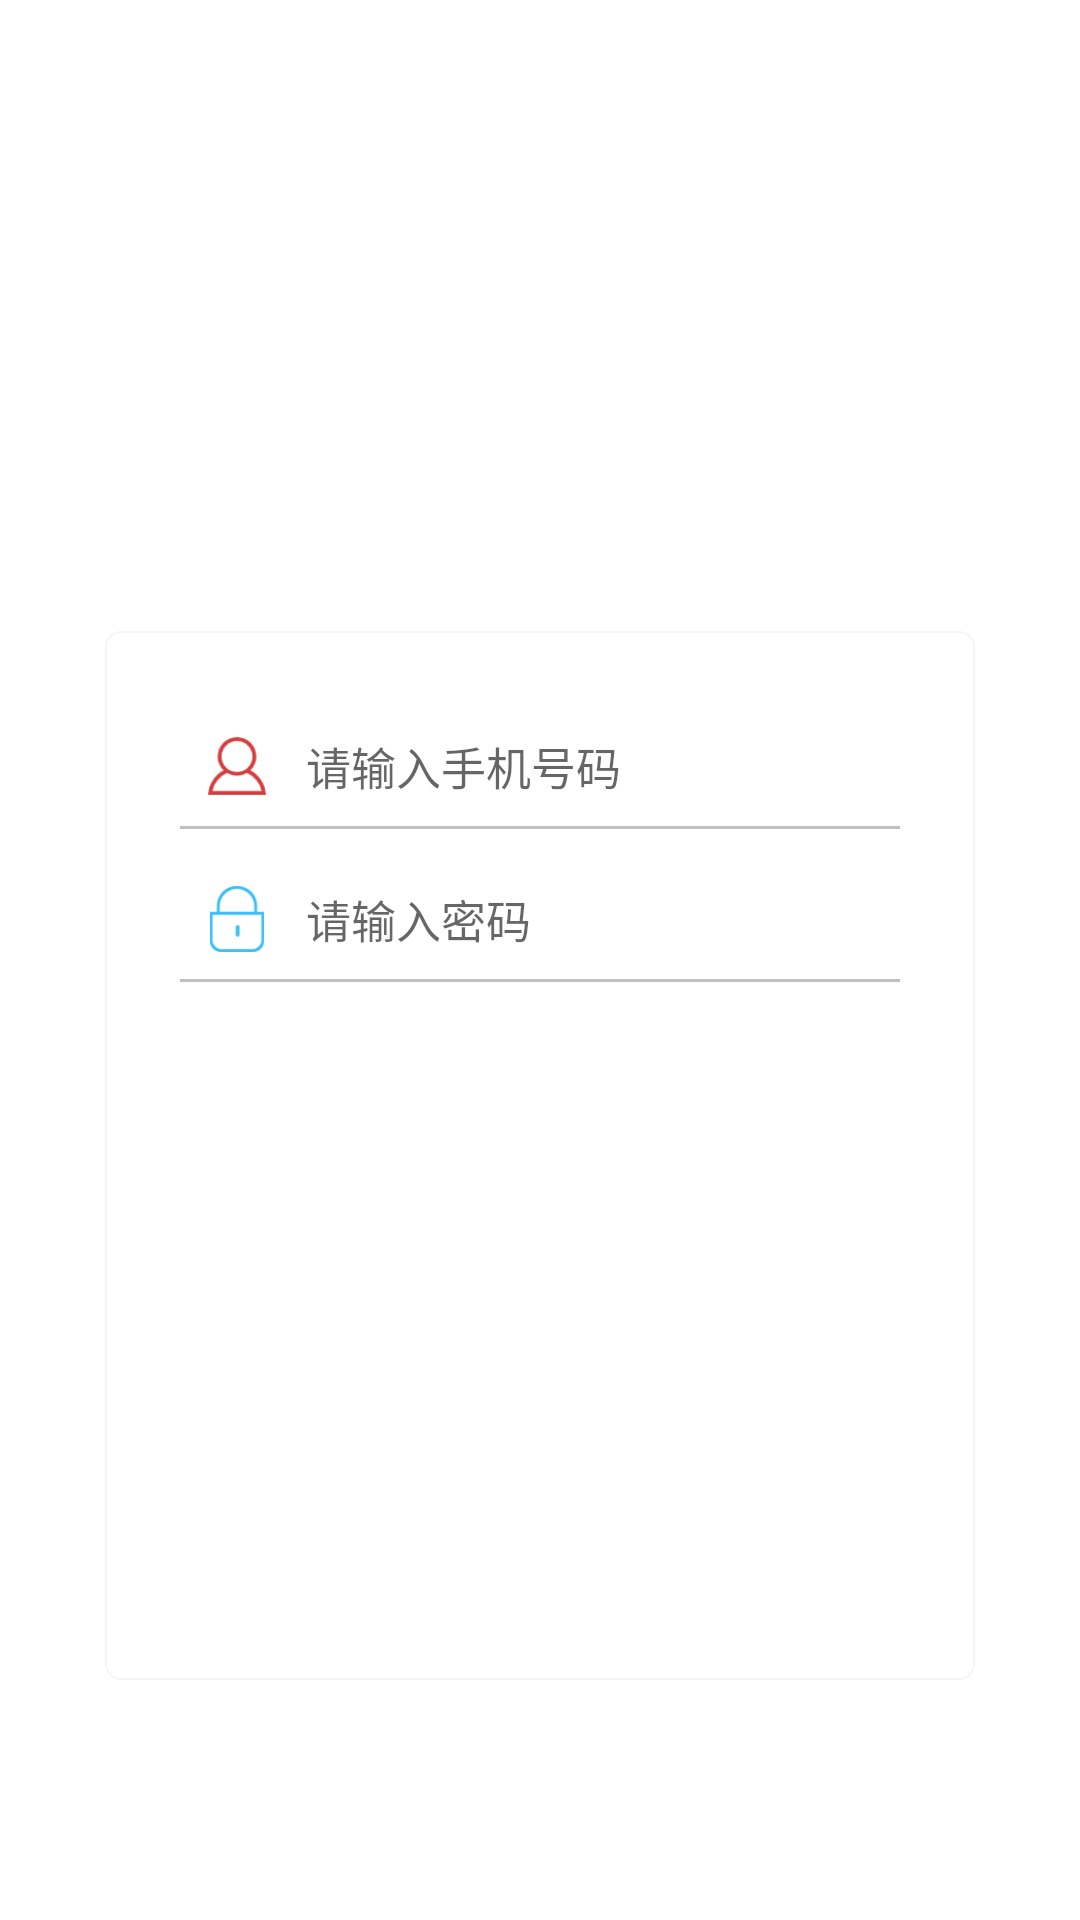

Icon bounding boxes for this 1080 × 1920 phone screenshot, format (x1, y1, x2, y2):
account: (208, 737, 266, 795)
mima: (210, 886, 264, 952)
